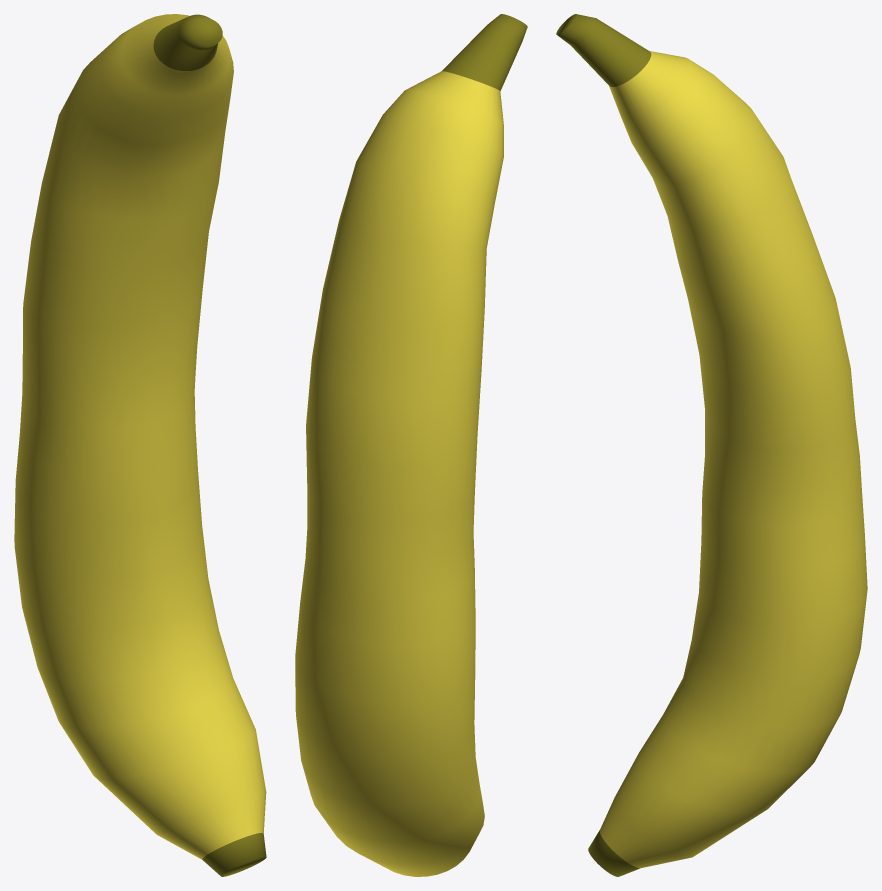
The model's file is random_banana_1.fbx.
3 renders of one model, left to right at view 1: azimuth 30°, elevation 25°; view 2: azimuth 150°, elevation 25°; view 3: azimuth 270°, elevation 25°, orthographic. The views are drawn at different scales.
Parts seen in each view (by area): view 1: Cylinder.046; view 2: Cylinder.046; view 3: Cylinder.046.
Part boxes in pixels (x1,y1,x2,y2): Cylinder.046: (14,14,266,876); Cylinder.046: (295,14,527,876); Cylinder.046: (556,14,867,876).
Size of the model in its own units: 195 by 920 by 312.
